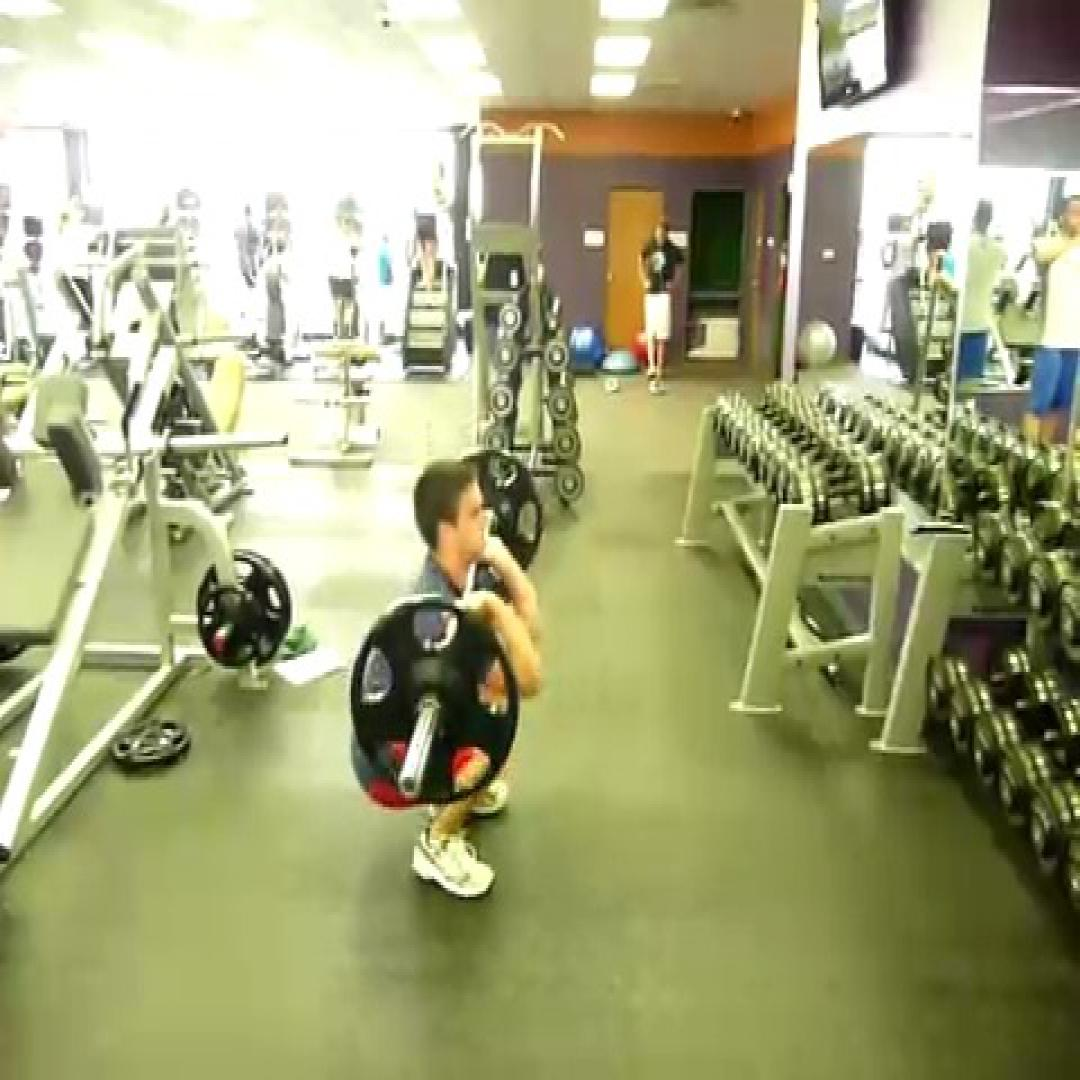Bar: (396, 768, 423, 801)
Barbell: (348, 594, 520, 804)
